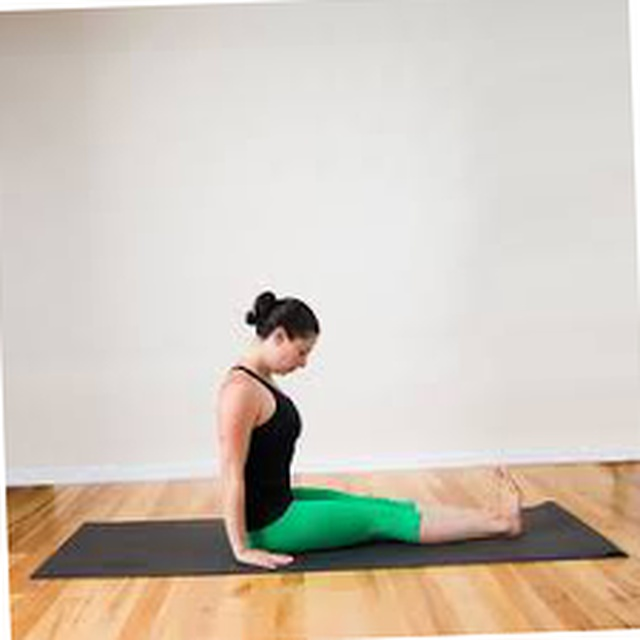Staff_Pose: (214, 289, 524, 572)
